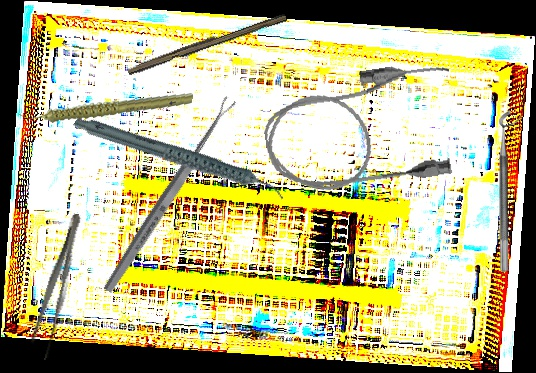Cannula: (257, 57, 465, 202)
Dressing Forceps: (26, 210, 89, 362)
Fixation Ring: (499, 110, 522, 272)
Handpiece: (71, 76, 288, 243), (18, 71, 194, 141)
Scalpel Handle: (125, 8, 288, 79)
Surgical Spoon: (101, 95, 238, 295)
